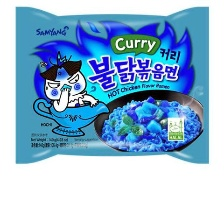snack: (6, 0, 216, 172)
